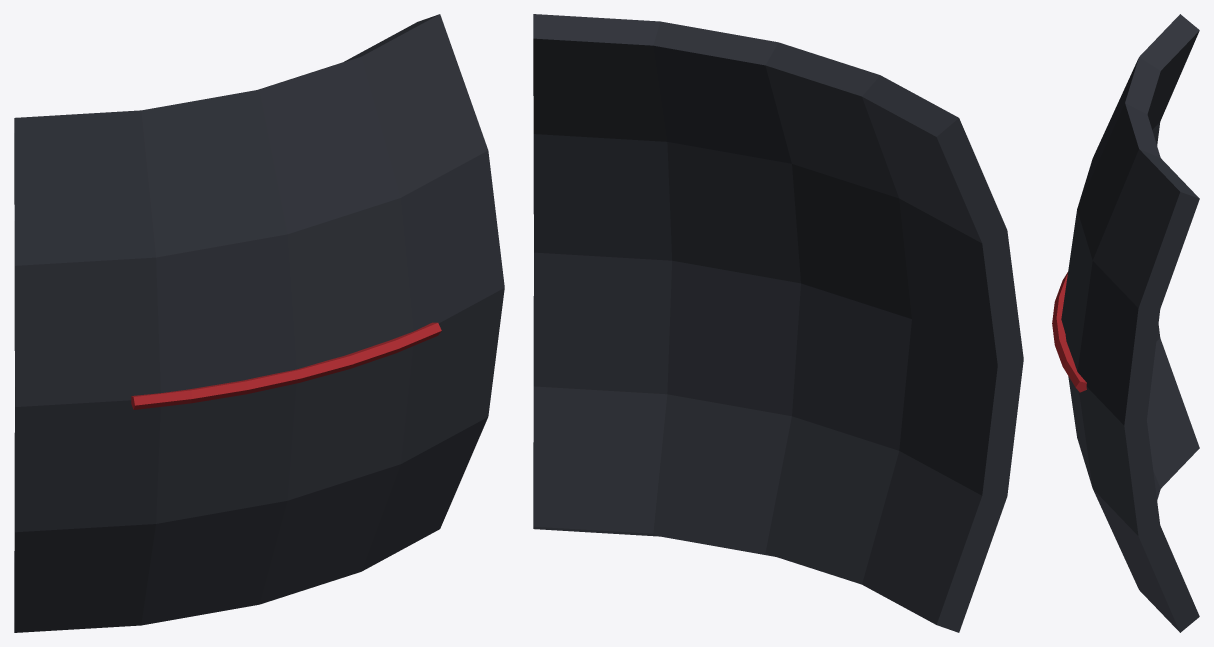
The model's file is nociosphere_shell_I.obj.
The picture shows the model from 3 angles, left to right: view 1: azimuth 30°, elevation 25°; view 2: azimuth 150°, elevation 25°; view 3: azimuth 270°, elevation 25°; orthographic projection. The views are drawn at different scales.
Visible parts, largest first — view 1: nociosphere_shell_I; view 2: nociosphere_shell_I; view 3: nociosphere_shell_I.
Boxes of the visible parts, bbox=[...] form: nociosphere_shell_I: bbox=[14, 14, 504, 632]; nociosphere_shell_I: bbox=[533, 14, 1023, 632]; nociosphere_shell_I: bbox=[1052, 14, 1199, 632].
Size of the model in its own units: 0.6741 by 0.6777 by 0.2057.
